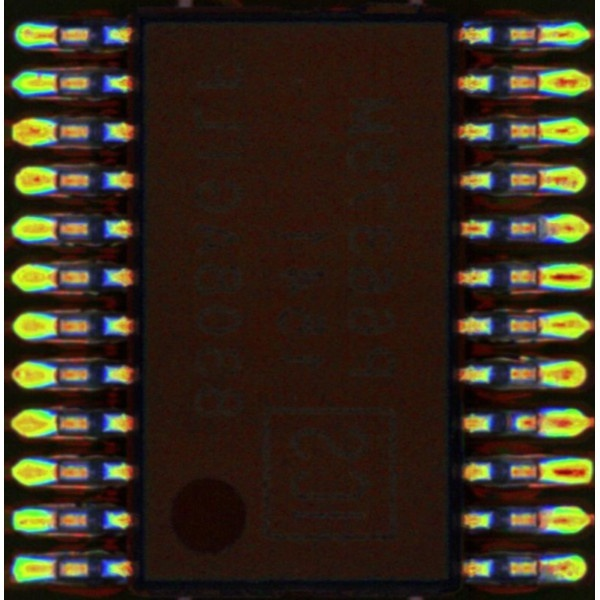Bad_podu: (520, 417, 556, 430), (40, 515, 71, 529), (39, 270, 69, 284), (43, 174, 71, 188), (527, 563, 556, 576), (39, 126, 70, 138), (525, 29, 555, 41), (43, 223, 70, 236), (530, 174, 556, 186), (43, 30, 71, 41), (41, 564, 69, 575), (528, 369, 553, 381), (45, 78, 70, 89)
